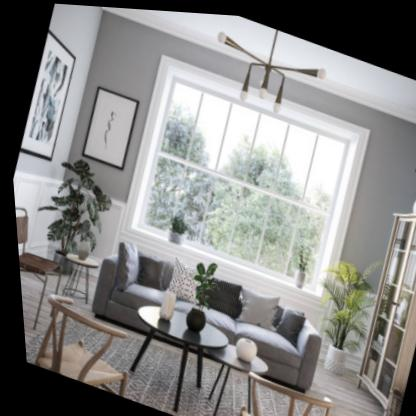Frame: (17, 30, 74, 161), (79, 85, 137, 169)
Window: (119, 52, 369, 300)
